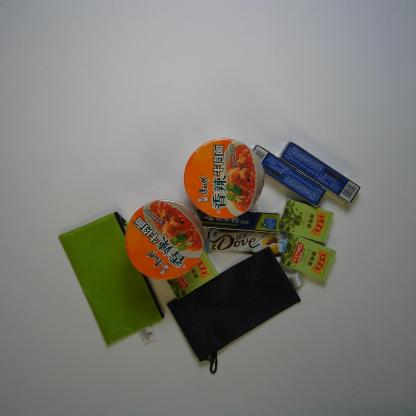Candy: (279, 233, 338, 283), (166, 248, 219, 300), (278, 198, 336, 243)
Chocolate: (206, 227, 290, 257)
Instant Noodles: (182, 138, 266, 221), (124, 200, 206, 281)
Personal Hygiene: (278, 140, 362, 205), (252, 144, 328, 209), (191, 204, 281, 236)
Stationery: (165, 246, 306, 374), (58, 210, 165, 349)
